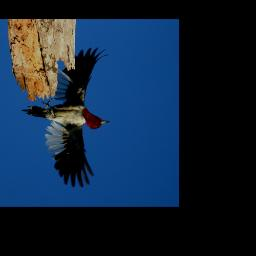Woodpecker: (21, 47, 110, 188)
